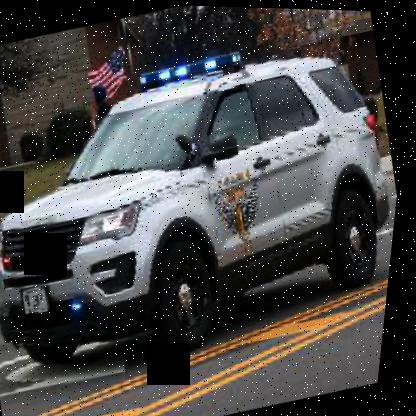emergency: (0, 0, 415, 407)
